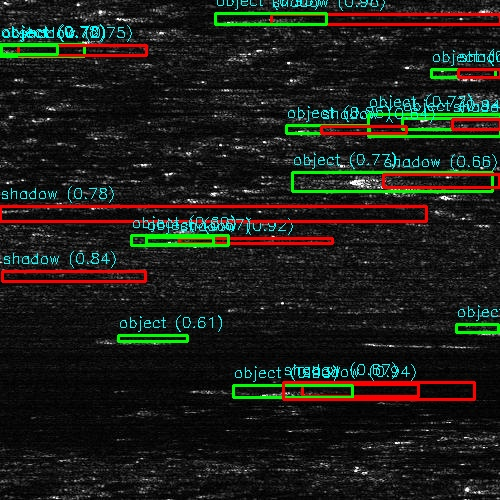rock: (319, 171, 486, 192), (264, 385, 347, 398), (411, 117, 500, 128), (275, 125, 380, 134), (410, 189, 493, 196), (431, 71, 500, 78), (0, 205, 26, 222), (134, 238, 217, 243), (258, 17, 299, 22)
shadow: (0, 205, 456, 222), (0, 262, 201, 279), (403, 171, 500, 192), (306, 385, 427, 398), (279, 17, 500, 22), (176, 238, 325, 243), (328, 125, 408, 134), (458, 117, 500, 128), (452, 189, 500, 196), (468, 71, 500, 78)
